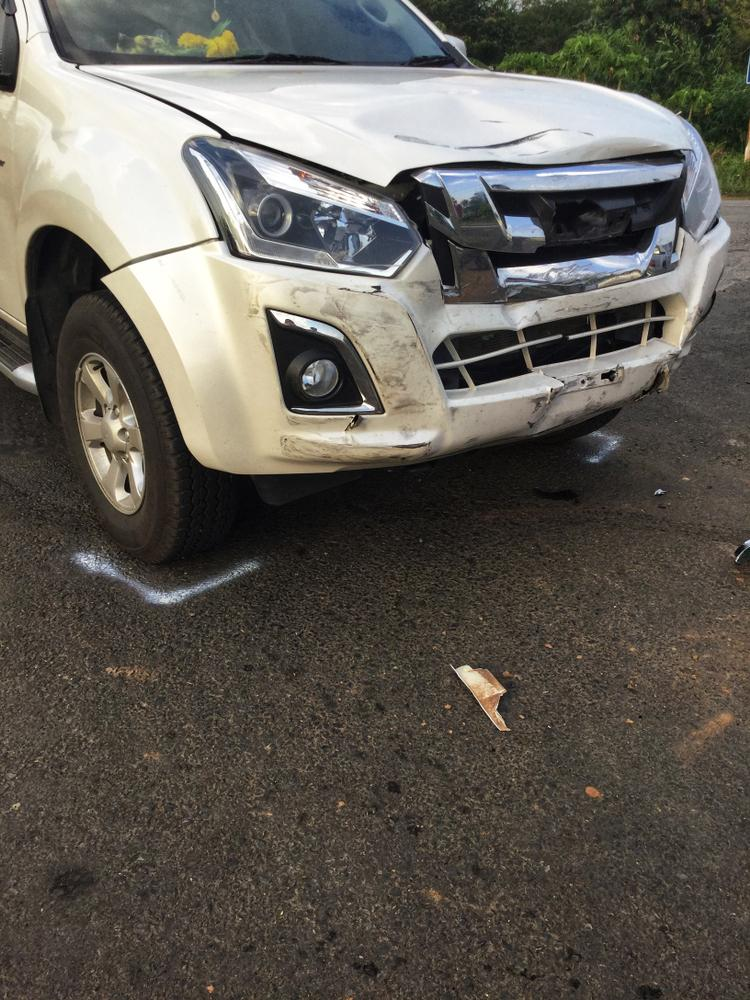crack: (531, 367, 564, 383)
dent: (300, 77, 660, 165), (535, 380, 598, 431), (502, 302, 544, 329)
scratch: (276, 280, 436, 464)
